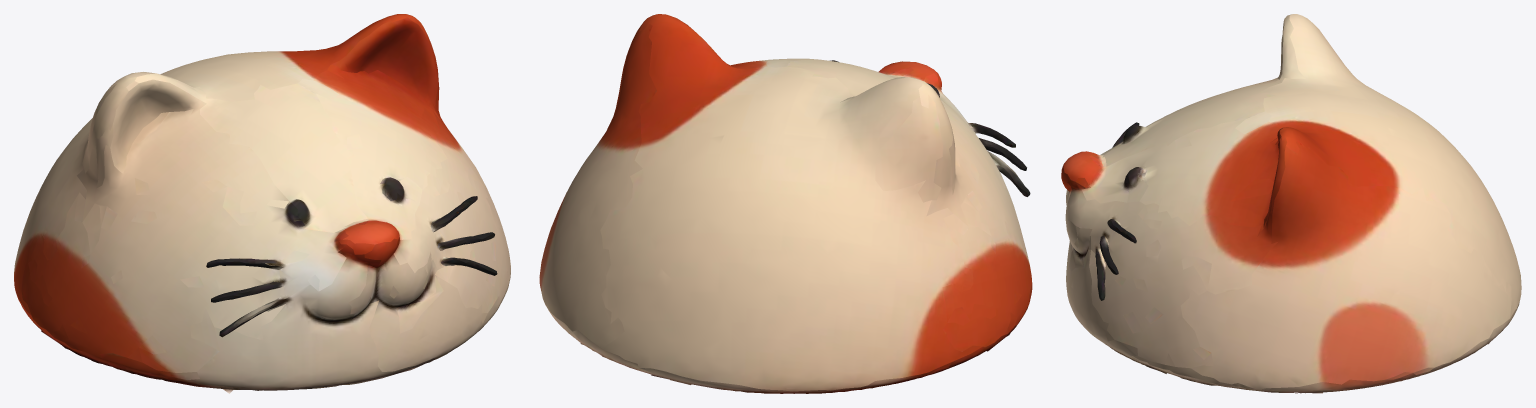
Rendered from lid.glb.
3 views of the same model, side by side, from view 1: azimuth 30°, elevation 25°; view 2: azimuth 150°, elevation 25°; view 3: azimuth 270°, elevation 25° (orthographic). The views are drawn at different scales.
Parts seen in each view (by area): view 1: geometry_0; view 2: geometry_0; view 3: geometry_0.
Boxes of the visible parts, x1,y1,x2,y2 form: geometry_0: (14,14,510,393); geometry_0: (539,14,1032,393); geometry_0: (1061,14,1521,393).
Size of the model in its own units: 0.1438 by 0.0783 by 0.1436.
1 material, 1 textured.
